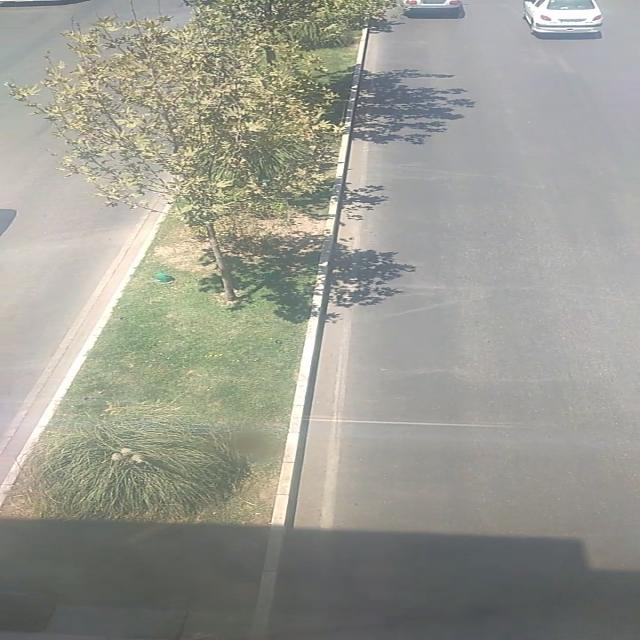car: (519, 1, 607, 36), (402, 0, 466, 18)
